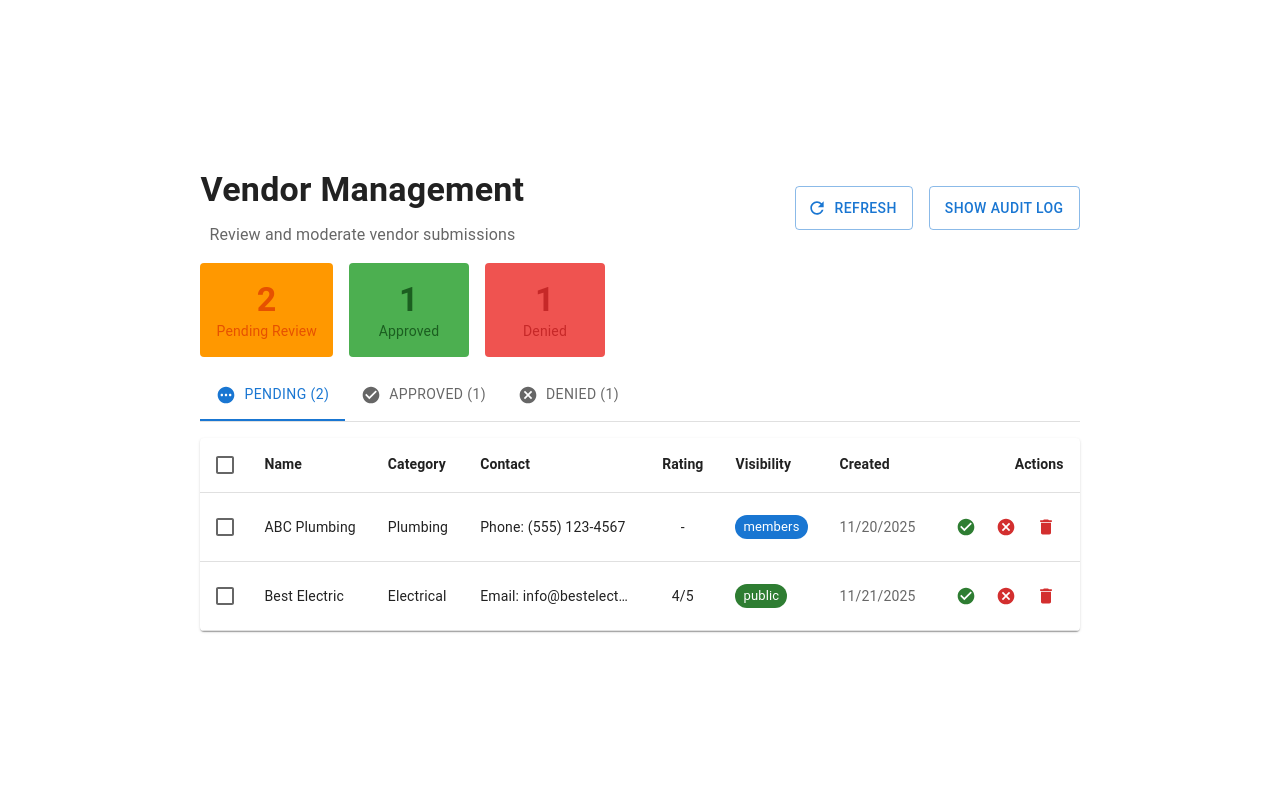
Test: VendorManagement - Role Gating › Admin Access › shows confirmation modal before approving vendor
expect the text "ABC Plumbing" is shown: met, box [264,517,356,537]
Note: Click approve button for ABC Plumbing
Click the button named "Approve": (966, 527) [948,509,984,545]
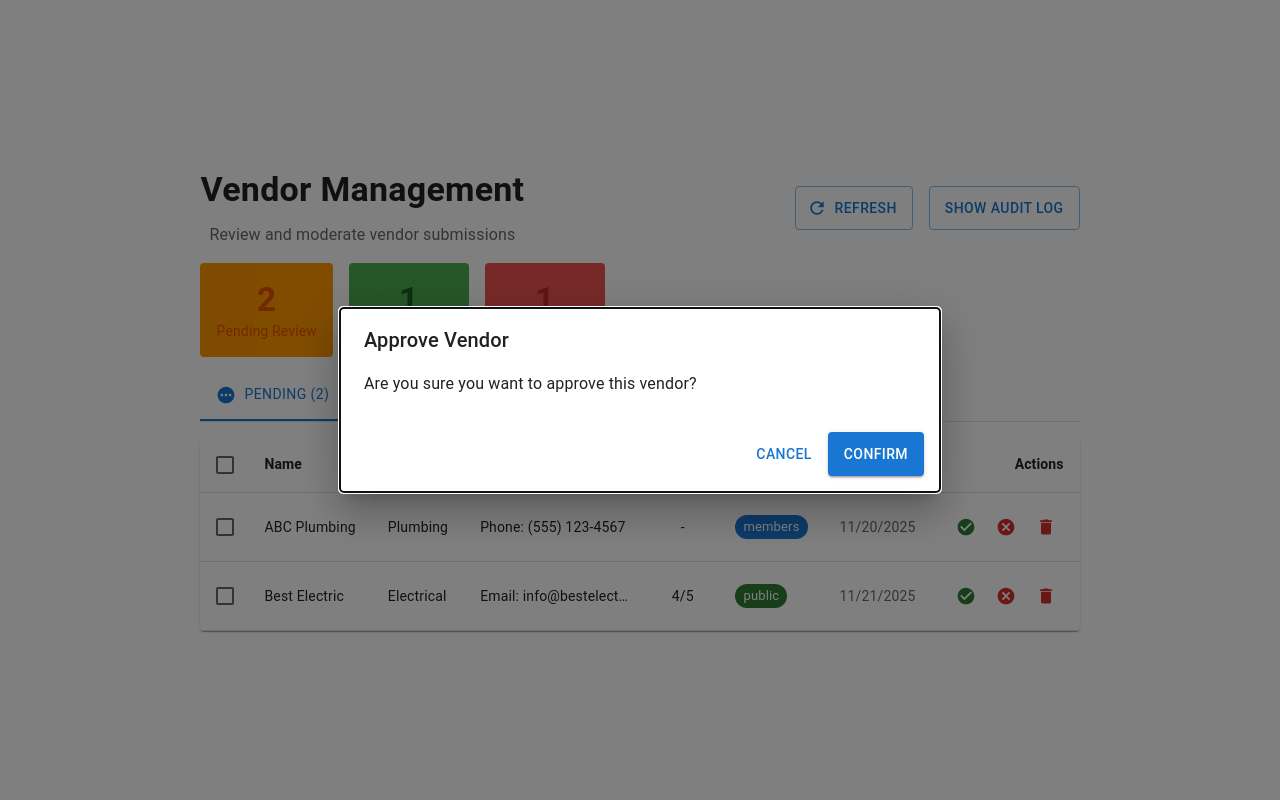
expect the dialog is shown: met, box [340,308,940,492]
expect the heading "Approve Vendor" is shown: met, box [364,328,509,352]
expect the text "Are you sure you want to approve this vendor?" is shown: met, box [364,374,697,393]
